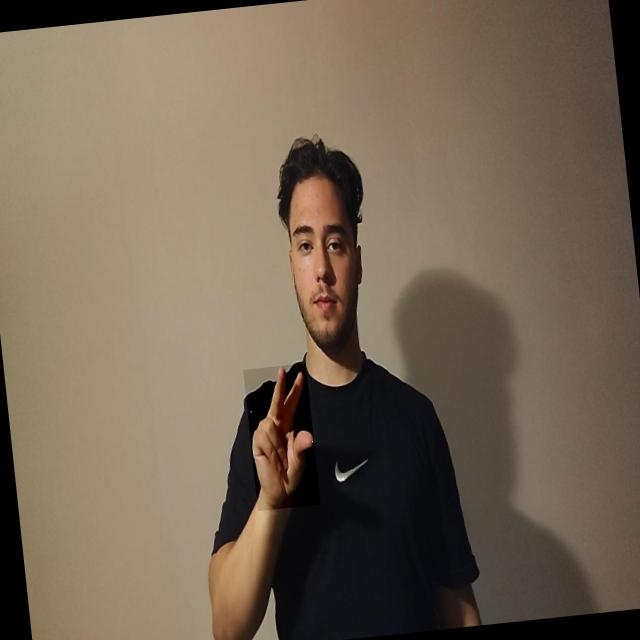no: (243, 362, 320, 510)
